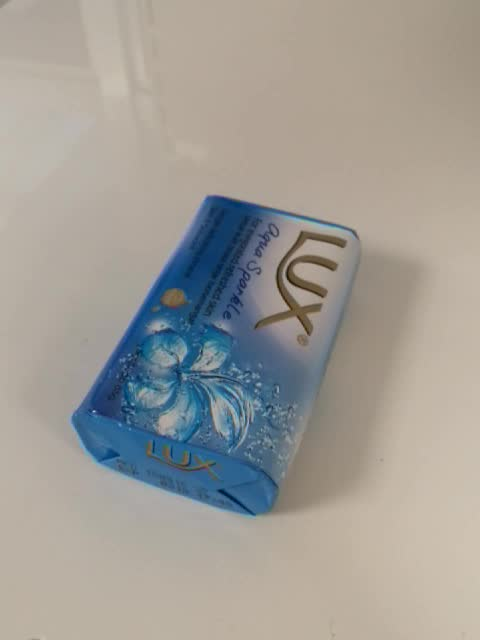soap: (69, 190, 364, 519)
